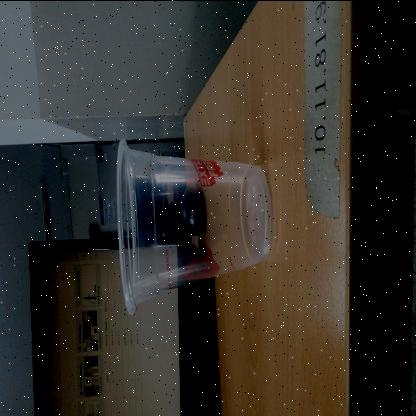Others: (116, 135, 272, 315)
